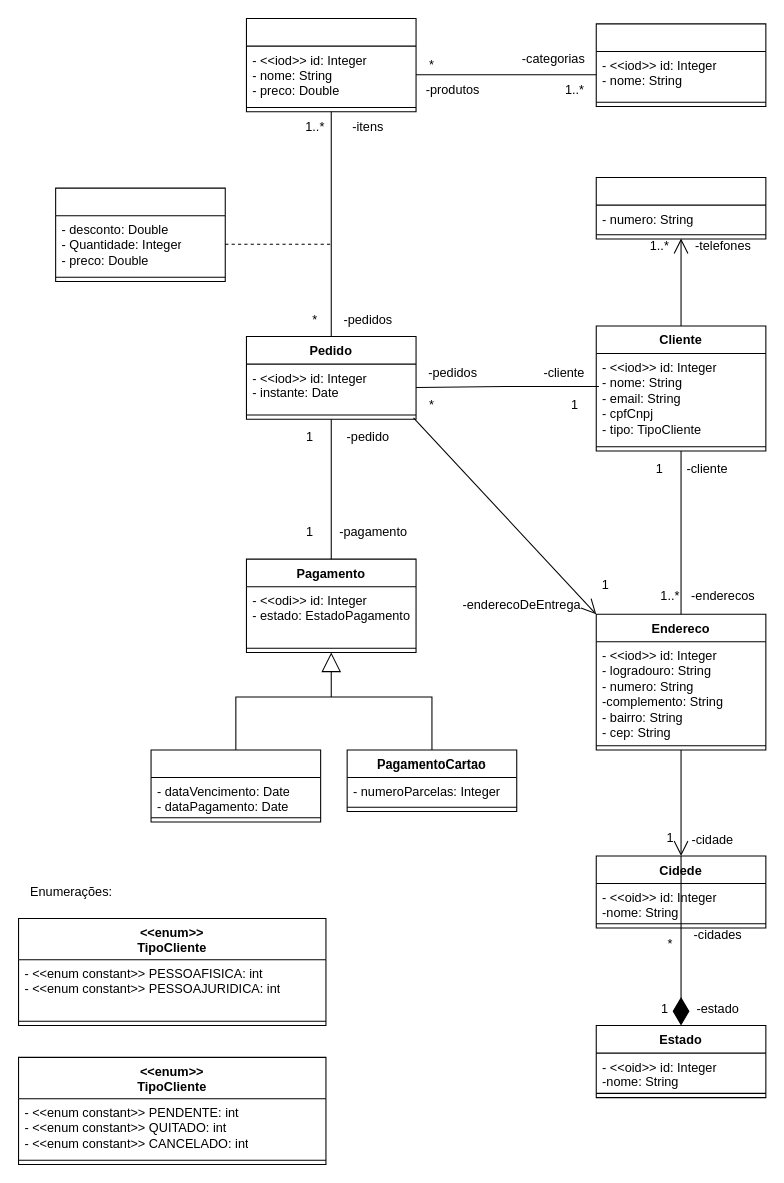
Some shapes in this 784 by 1183 pixel diagram are drawn without their labels. The shapes that lost their labels are listed below. From the top down, each one's box as (x1, y1, x2, y2) in pixels, then its label:
(245, 17, 416, 112): Produto
(595, 23, 766, 107): Categoria
(595, 176, 766, 239): Telefone
(55, 187, 225, 281): ItemPedido
(150, 749, 321, 822): PagamentoBoleto
